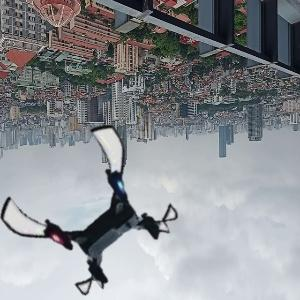drone: (14, 139, 164, 289)
